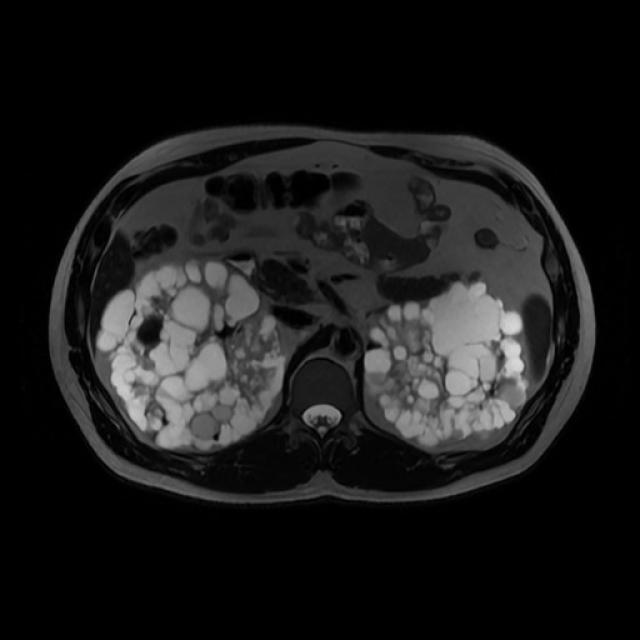sag: (95, 259, 286, 452)
sol: (363, 281, 530, 448)
